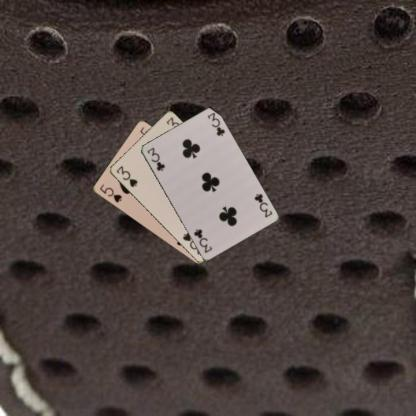3c: (252, 191, 274, 219), (144, 145, 166, 172)
3s: (113, 163, 139, 188)
5s: (97, 181, 123, 204)
